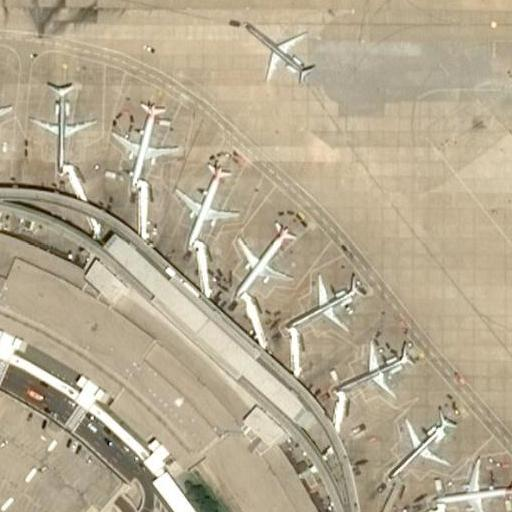Aircraft: (110, 102, 181, 188), (284, 277, 377, 339), (171, 167, 239, 251), (238, 14, 318, 82), (31, 79, 93, 163), (336, 341, 422, 395), (229, 223, 293, 295), (432, 457, 512, 512), (391, 418, 455, 477), (0, 77, 11, 148)
